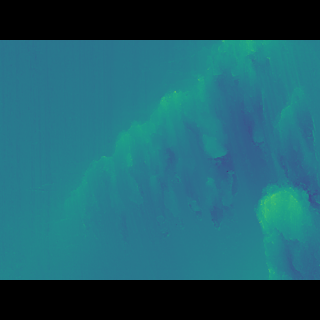Loch: (56, 67, 320, 241)
